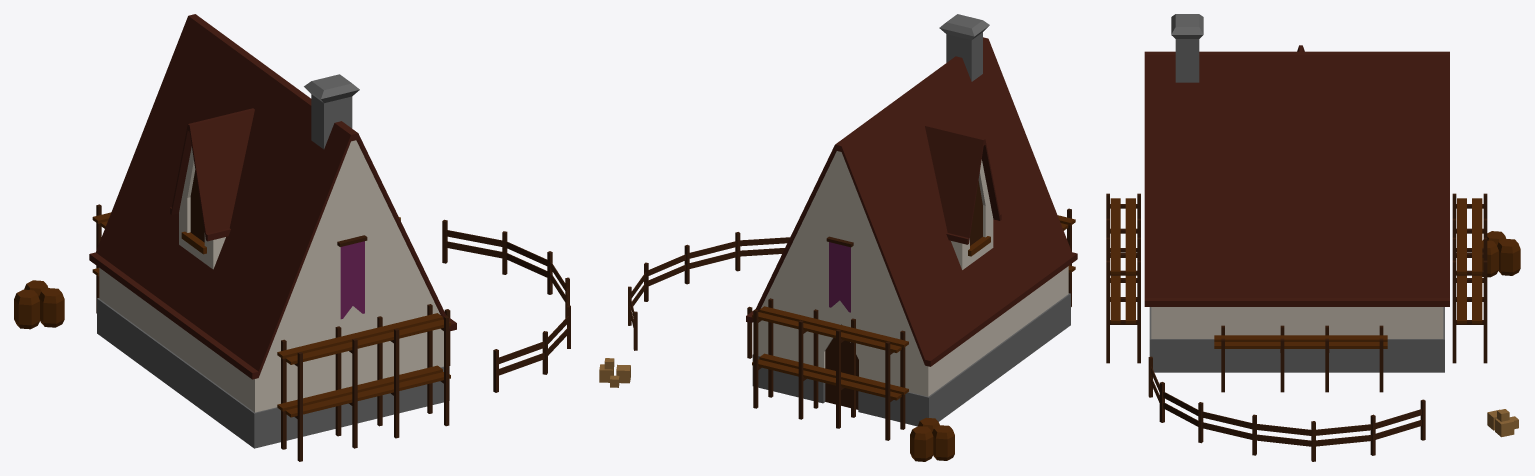
Rendered from LogHutBuildPhase3v1.fbx.
3 renders of one model, left to right at view 1: azimuth 30°, elevation 25°; view 2: azimuth 150°, elevation 25°; view 3: azimuth 270°, elevation 25°, orthographic. The views are drawn at different scales.
Parts seen in each view (by area): view 1: Plane.828; view 2: Plane.828; view 3: Plane.828.
Boxes of the visible parts, x1=… form: Plane.828: x1=14, y1=14, x2=570, y2=461; Plane.828: x1=599, y1=14, x2=1077, y2=461; Plane.828: x1=1106, y1=14, x2=1520, y2=461.
Size of the model in its own units: 280 by 202 by 245.
